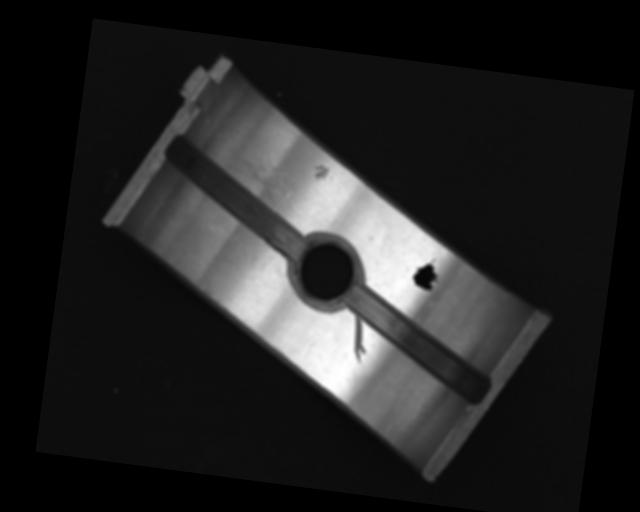blot: (410, 254, 442, 292)
bruise: (312, 162, 335, 182)
gap: (152, 133, 317, 261), (338, 286, 499, 403)
hole: (285, 233, 368, 313)
nick: (348, 315, 370, 364)
scratch: (219, 144, 295, 212)
